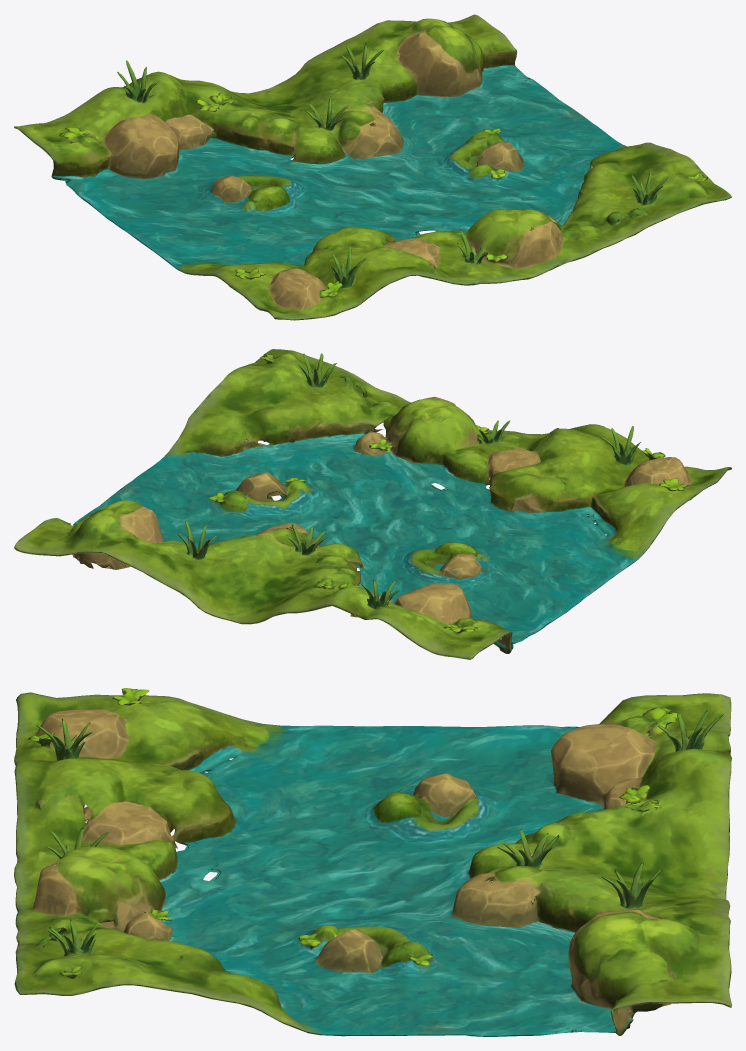
The model's file is creek-open-segment.glb.
3 views of the same model, one above another, from view 1: azimuth 30°, elevation 25°; view 2: azimuth 150°, elevation 25°; view 3: azimuth 270°, elevation 25° (orthographic). The views are drawn at different scales.
Bounding box in the file's own units: 0.9983 × 0.147 × 0.9806.
Materials: 1 (1 with a texture image).
